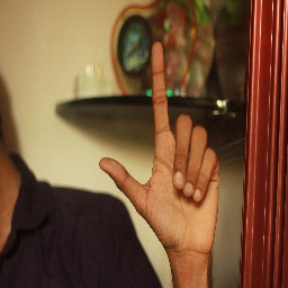L: (94, 41, 224, 235)
